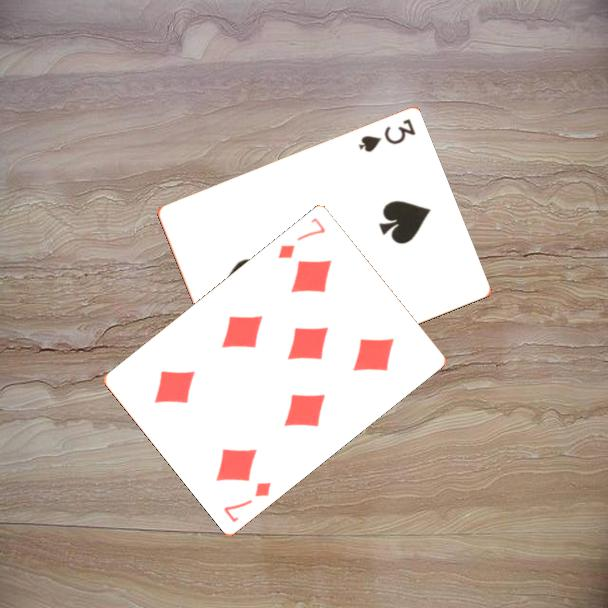d07: (274, 213, 329, 261), (220, 478, 274, 525)
s03: (355, 116, 418, 155)
